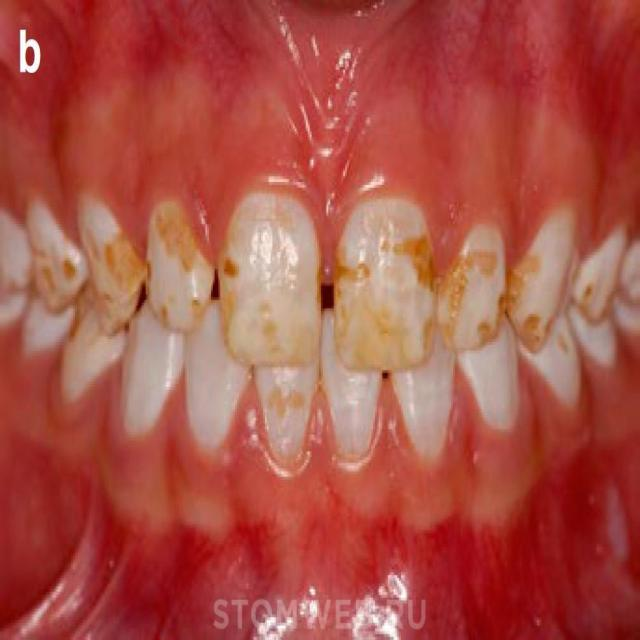LL1BC_mdecay: (550, 329, 584, 418)
LLCI_healthy: (321, 371, 385, 472)
LLC_healthy: (458, 351, 525, 432)
LLLI_healthy: (392, 371, 453, 466)
LR1BC_healthy: (58, 340, 123, 409)
LRCI_mdecay: (255, 366, 318, 473)
LRC_healthy: (123, 340, 183, 436)
LRLI_healthy: (183, 369, 252, 449)
UL1BC_sdecay: (568, 227, 630, 324)
ULCI_sdecay: (331, 197, 440, 370)
ULC_sdecay: (507, 206, 579, 356)
ULLI_sdecay: (437, 219, 510, 353)
UR1BC_sdecay: (25, 195, 90, 315)
URCI_sdecay: (217, 192, 324, 364)
URC_sdecay: (72, 180, 149, 334)
URLI_sdecay: (146, 192, 215, 333)
